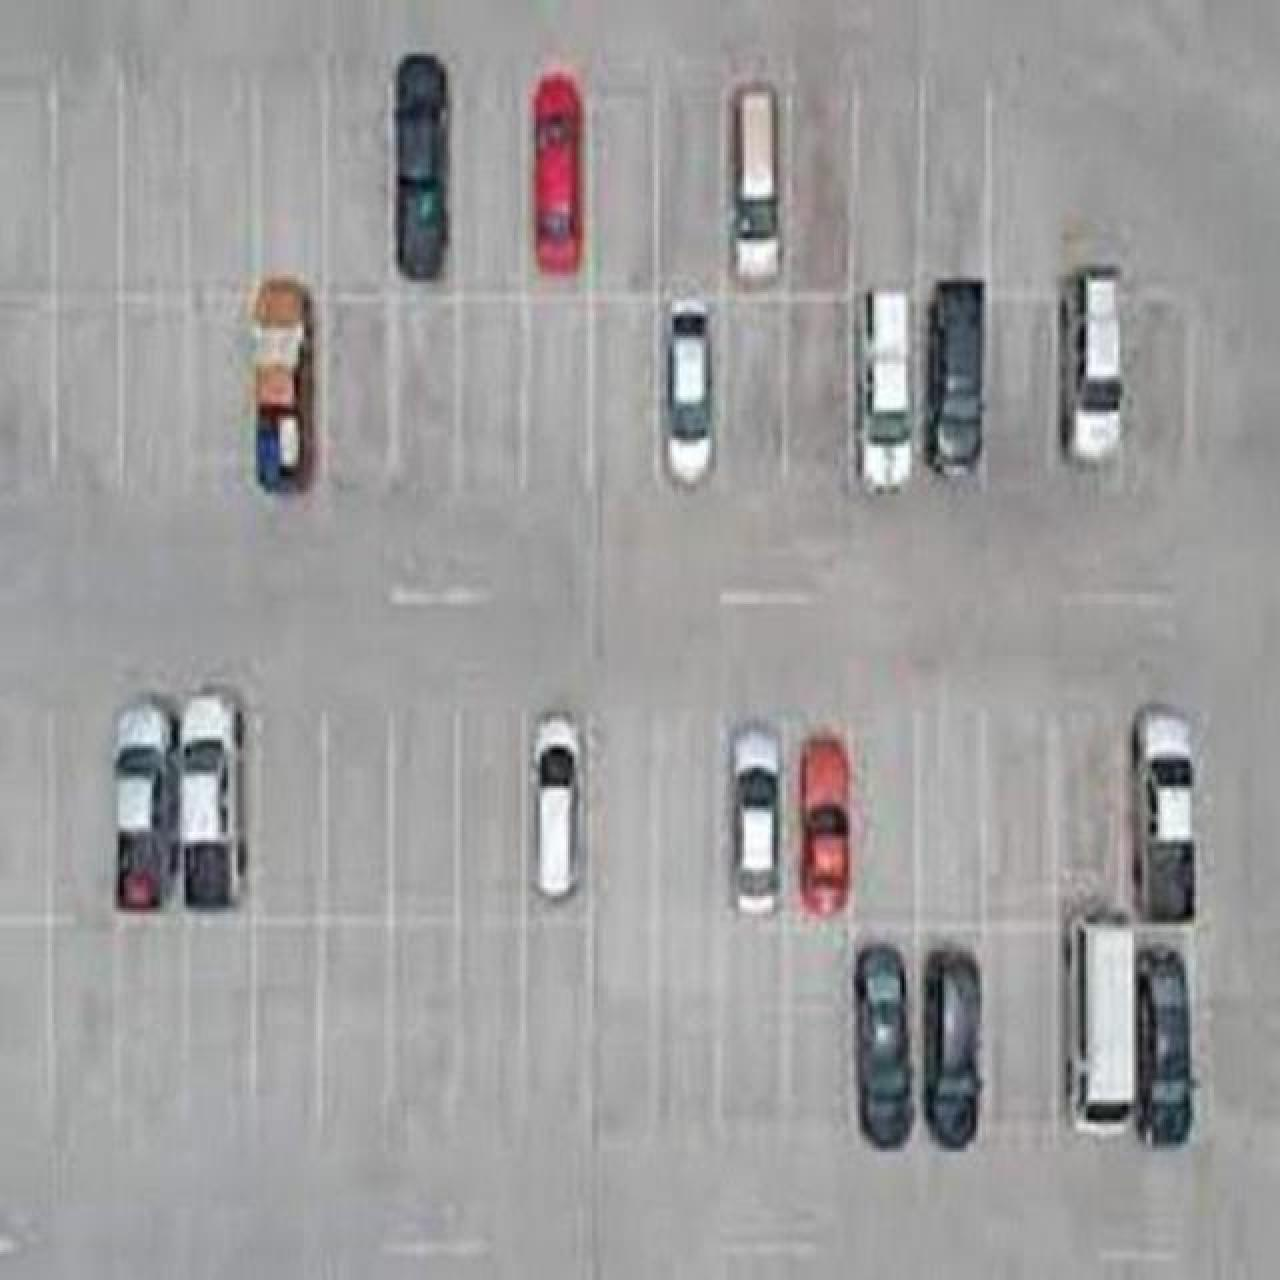car: (1063, 908, 1138, 1137), (173, 690, 246, 910), (246, 275, 316, 493), (1130, 702, 1196, 920), (1062, 259, 1131, 464), (855, 288, 919, 495), (113, 700, 176, 910), (392, 52, 448, 280), (852, 942, 912, 1148), (927, 275, 987, 478), (922, 948, 980, 1148), (1136, 944, 1192, 1146), (530, 70, 583, 274), (728, 82, 779, 282), (728, 724, 782, 914), (662, 300, 714, 484), (798, 736, 850, 918), (530, 714, 580, 898)
